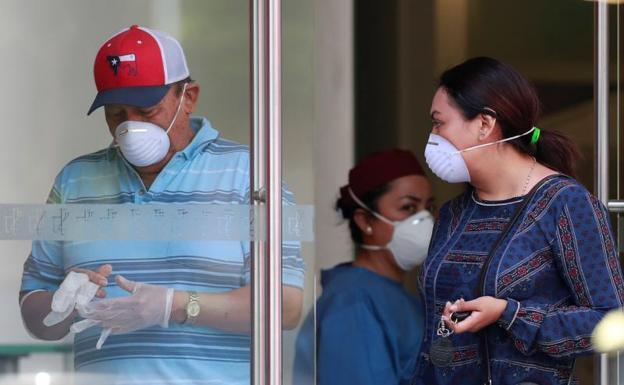with_mask: (344, 159, 443, 280), (417, 71, 512, 193), (93, 86, 201, 171)
